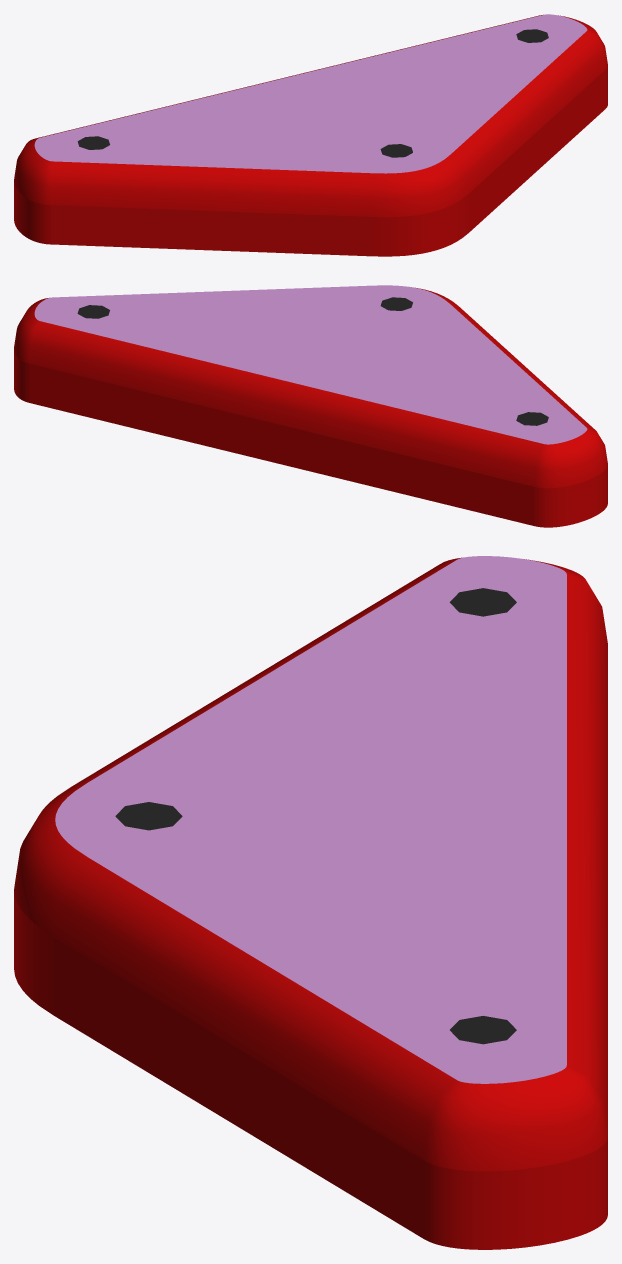
Rendered from triangle_bumper.fbx.
3 renders of one model, top to bottom at view 1: azimuth 30°, elevation 25°; view 2: azimuth 150°, elevation 25°; view 3: azimuth 270°, elevation 25°, orthographic. The views are drawn at different scales.
Parts seen in each view (by area): view 1: Null; view 2: Null; view 3: Null.
Boxes of the visible parts, x1,y1,x2,y2 form: Null: (14, 14, 607, 256); Null: (14, 285, 607, 527); Null: (14, 556, 607, 1249).
Size of the model in its own units: 737 by 93.1 by 329.
